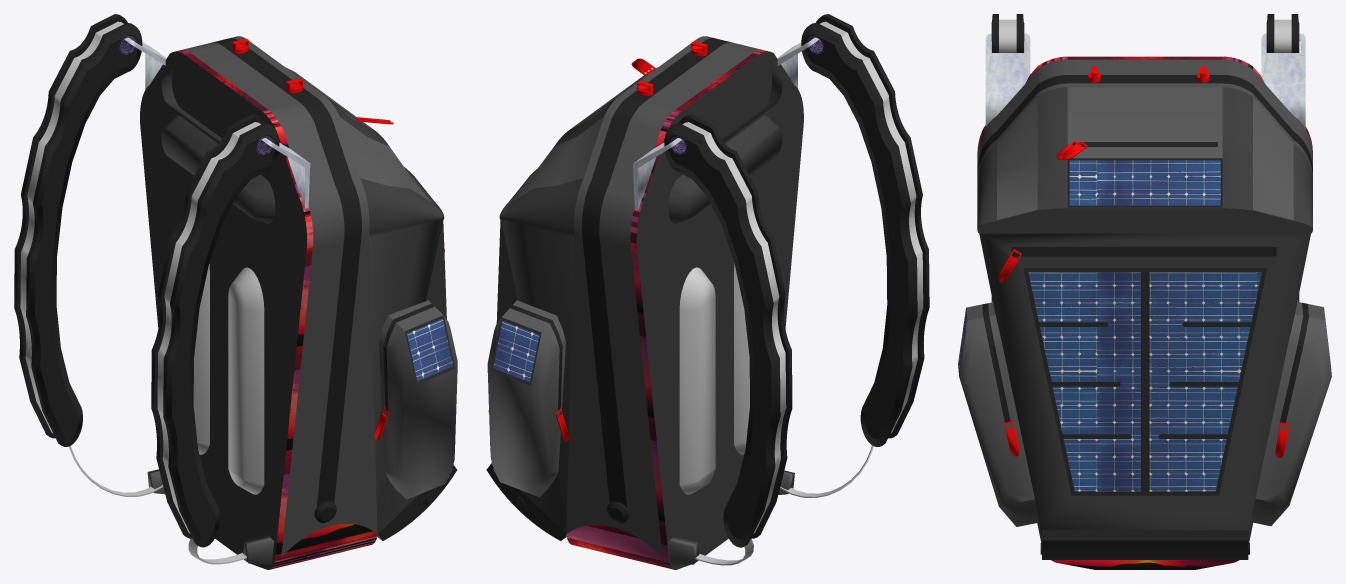
The picture shows the model from 3 angles, left to right: view 1: azimuth 30°, elevation 25°; view 2: azimuth 150°, elevation 25°; view 3: azimuth 270°, elevation 25°; orthographic projection.
Visible parts, largest first — view 1: Mesh3_Component_2_1_Component_4_1_Component_9_1_Model; view 2: Mesh3_Component_2_1_Component_4_1_Component_9_1_Model; view 3: Mesh3_Component_2_1_Component_4_1_Component_9_1_Model.
Part boxes in pixels (bbox=[...]): Mesh3_Component_2_1_Component_4_1_Component_9_1_Model: bbox=[14, 14, 457, 569]; Mesh3_Component_2_1_Component_4_1_Component_9_1_Model: bbox=[486, 14, 929, 569]; Mesh3_Component_2_1_Component_4_1_Component_9_1_Model: bbox=[958, 14, 1331, 569].
Size of the model in its own units: 0.6797 by 0.9937 by 0.695.
